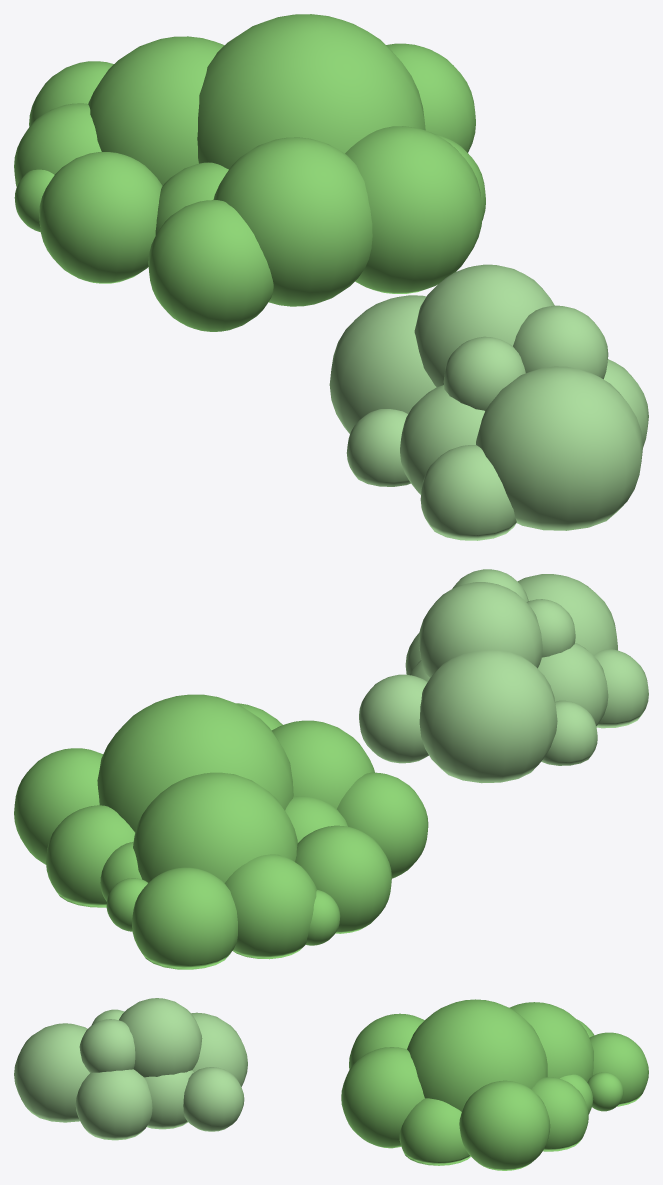
File: def_pretty_bossjes_lol.fbx
The picture shows the model from 3 angles, top to bottom: view 1: azimuth 30°, elevation 25°; view 2: azimuth 150°, elevation 25°; view 3: azimuth 270°, elevation 25°; orthographic projection. The views are drawn at different scales.
Visible parts, largest first — view 1: Bosje_2, Bosje_1; view 2: Bosje_2, Bosje_1; view 3: Bosje_2, Bosje_1.
Boxes of the visible parts, box(x1,y1,x2,y2) form: Bosje_2: box(14, 14, 485, 331); Bosje_1: box(329, 264, 648, 540); Bosje_2: box(14, 694, 428, 969); Bosje_1: box(359, 569, 648, 783); Bosje_2: box(341, 999, 648, 1170); Bosje_1: box(14, 998, 247, 1140).
Size of the model in its own units: 7.49 by 3.63 by 15.94.
